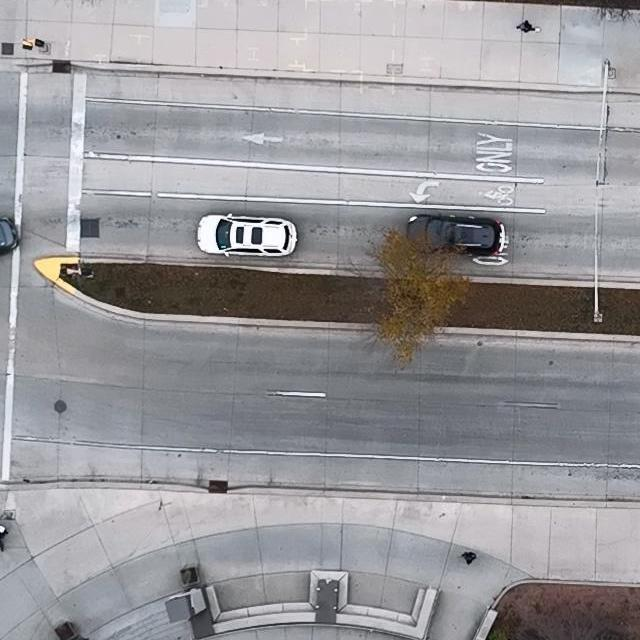car: (197, 212, 300, 258), (405, 213, 501, 258), (0, 216, 20, 255)
